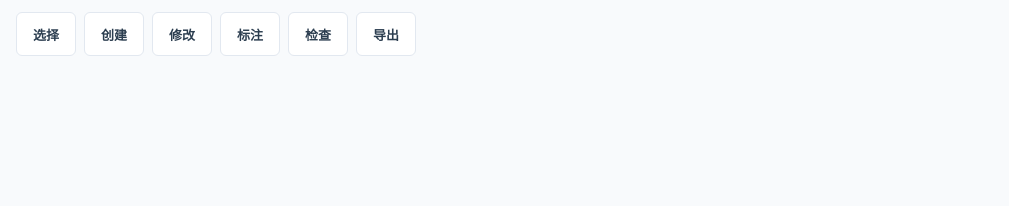
engineering command bar › reveals the creation commands after choosing 创建 and restores the categories with 返回
Click the button "创建" at (114, 34), box x1=84 y1=12 x2=144 y2=56
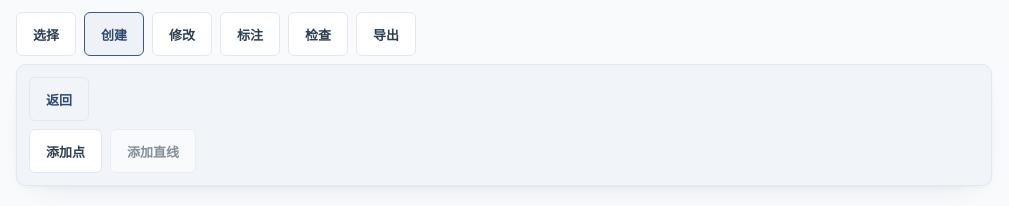
Now the element named "创建命令" is shown, box x1=16 y1=64 x2=992 y2=186
Now the button "添加点" is shown, box x1=29 y1=129 x2=102 y2=173
Click the button "返回" at (59, 99), box x1=29 y1=77 x2=89 y2=121
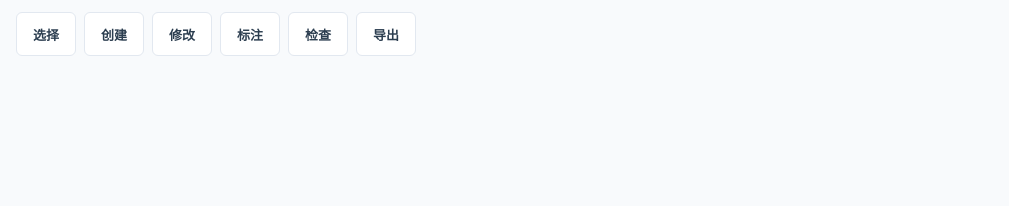
Expected: the button "创建" is shown, x1=84 y1=12 x2=144 y2=56
Now the button "添加点" is gone
